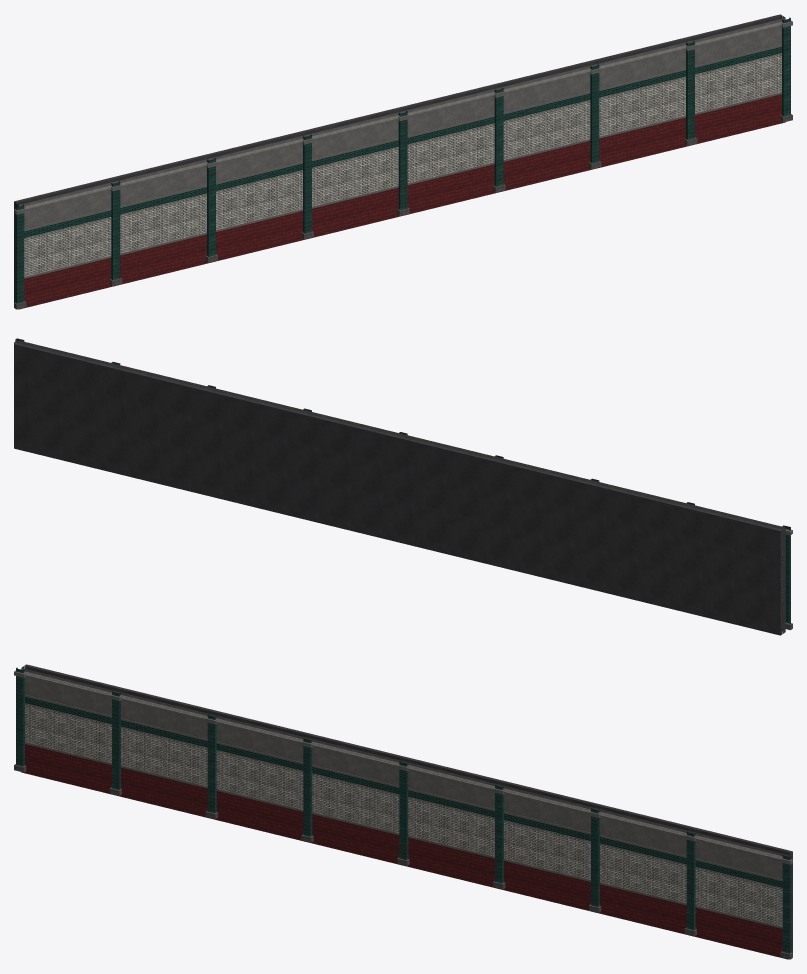
File: hall_wall.obj
3 renders of one model, top to bottom at view 1: azimuth 30°, elevation 25°; view 2: azimuth 150°, elevation 25°; view 3: azimuth 330°, elevation 25°, orthographic.
Visible parts, largest first — view 1: hall_wall; view 2: hall_wall; view 3: hall_wall.
Part boxes in pixels (x1=…): hall_wall: x1=14, y1=14, x2=792, y2=309; hall_wall: x1=14, y1=338, x2=792, y2=635; hall_wall: x1=14, y1=664, x2=792, y2=959.
Bounding box in the file's own units: 48.62 × 6.25 × 0.81.
